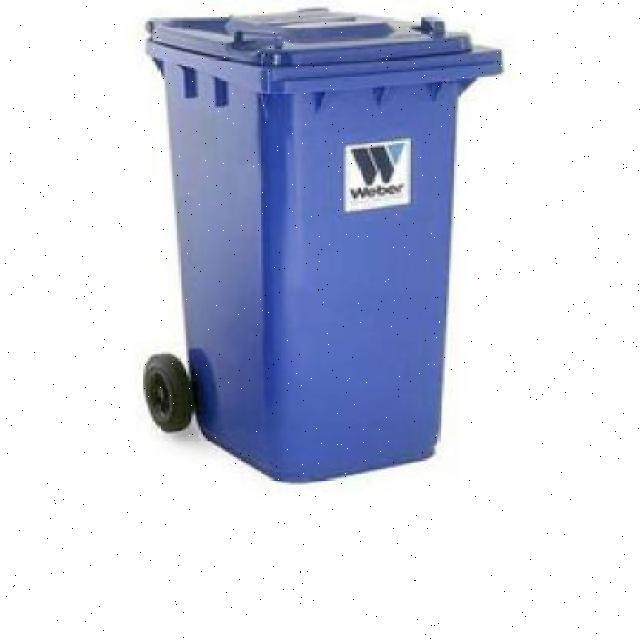garbage container: (125, 7, 530, 487)
